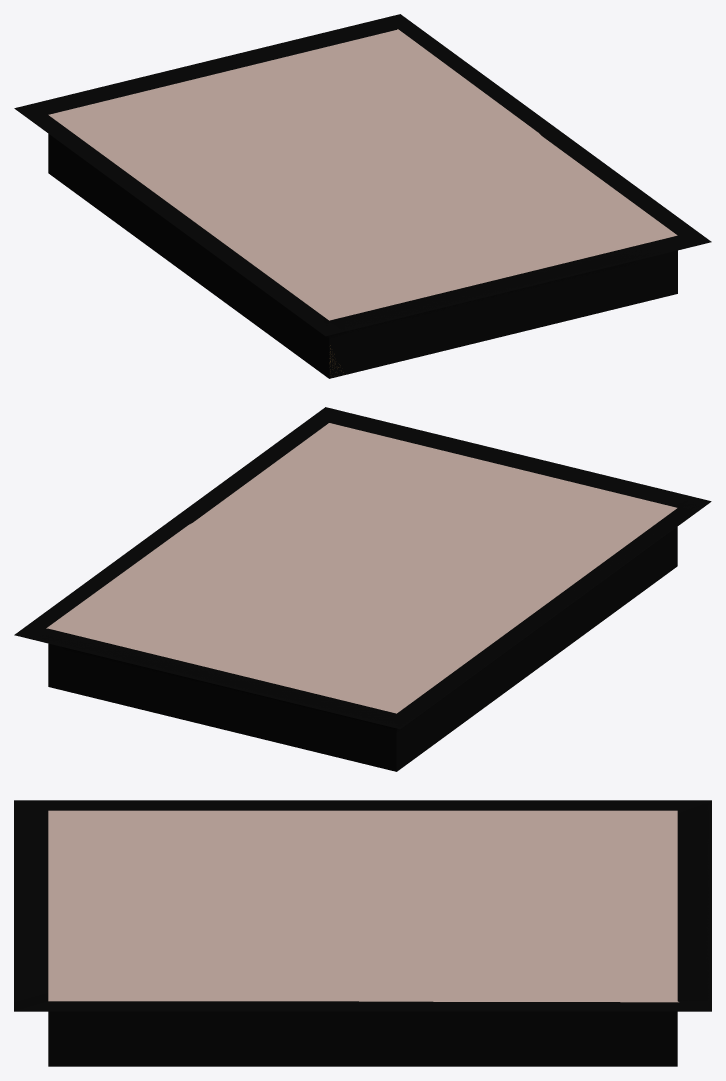
The model's file is KARAKAFES-fbx.fbx.
3 views of the same model, one above another, from view 1: azimuth 30°, elevation 25°; view 2: azimuth 150°, elevation 25°; view 3: azimuth 270°, elevation 25° (orthographic). The views are drawn at different scales.
Parts seen in each view (by area): view 1: Cube.002, Cube.001; view 2: Cube.002, Cube.001; view 3: Cube.002, Cube.001.
Part boxes in pixels (bbox=[...]): Cube.002: bbox=[48, 29, 677, 320]; Cube.001: bbox=[14, 14, 711, 378]; Cube.002: bbox=[46, 423, 676, 713]; Cube.001: bbox=[14, 407, 711, 771]; Cube.002: bbox=[48, 810, 678, 1002]; Cube.001: bbox=[14, 800, 711, 1066].
Size of the model in its own units: 416 by 61.91 by 582.
